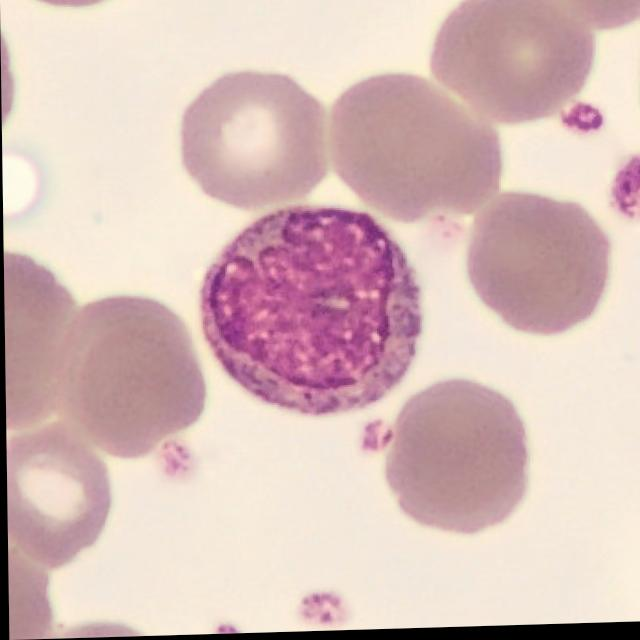Neutrofilo segmentado: (203, 210, 419, 415)
